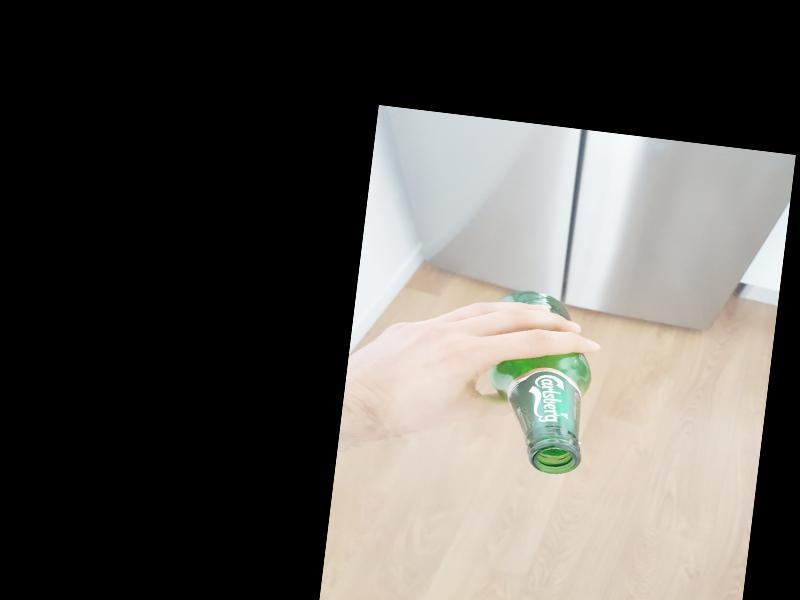Beer: (479, 288, 599, 477)
